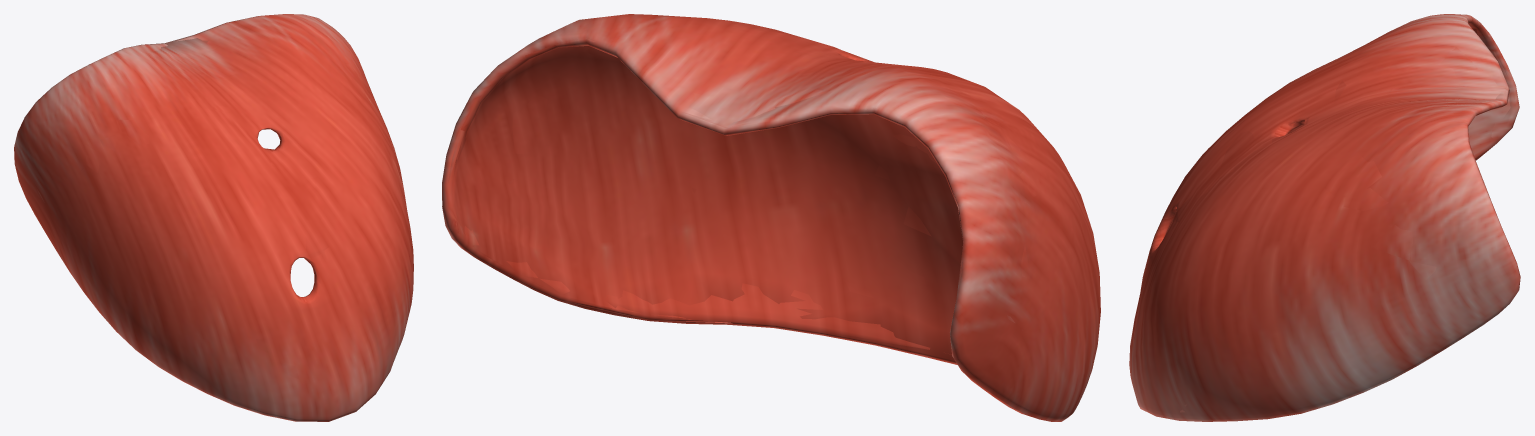
The model's file is Diaphragm.fbx.
3 renders of one model, left to right at view 1: azimuth 30°, elevation 25°; view 2: azimuth 150°, elevation 25°; view 3: azimuth 270°, elevation 25°, orthographic. The views are drawn at different scales.
Parts seen in each view (by area): view 1: Diaphragm, Diaphragm low; view 2: Diaphragm low, Diaphragm; view 3: Diaphragm, Diaphragm low.
Boxes of the visible parts, x1,y1,x2,y2 form: Diaphragm: (14, 14, 413, 421); Diaphragm low: (37, 30, 375, 379); Diaphragm low: (448, 16, 1092, 364); Diaphragm: (442, 14, 1100, 421); Diaphragm: (1129, 14, 1520, 421); Diaphragm low: (1139, 28, 1514, 412).
Bounding box in the file's own units: 55 × 45.94 × 49.32.
